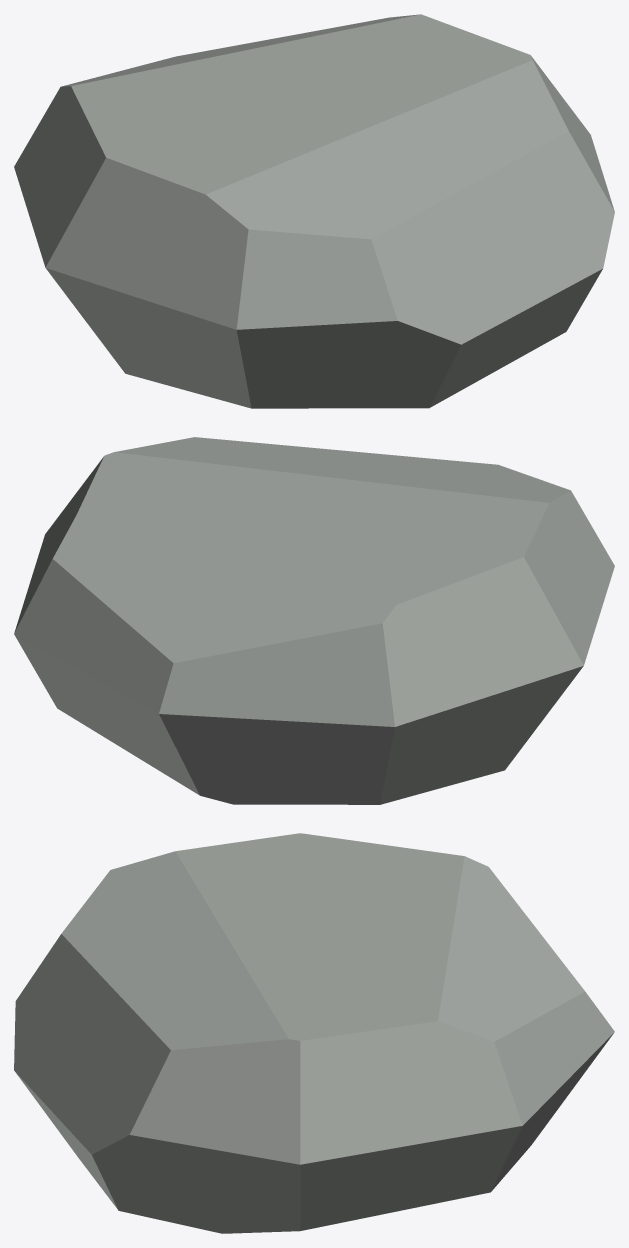
The model's file is rock.fbx.
3 views of the same model, one above another, from view 1: azimuth 30°, elevation 25°; view 2: azimuth 150°, elevation 25°; view 3: azimuth 270°, elevation 25° (orthographic).
Parts seen in each view (by area): view 1: rock; view 2: rock; view 3: rock.
Boxes of the visible parts, box(x1,y1,x2,y2) form: rock: box(14, 14, 614, 408); rock: box(14, 437, 614, 804); rock: box(14, 833, 614, 1233).
Bounding box in the file's own units: 164 × 172 × 76.98.
